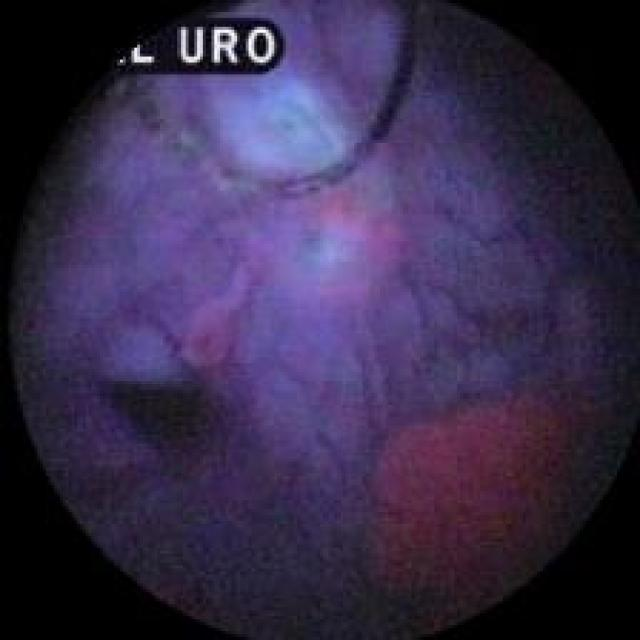color misalignment: (98, 17, 293, 86)
contrast: (456, 20, 623, 261), (91, 375, 208, 450)
instrument: (146, 4, 421, 198)
